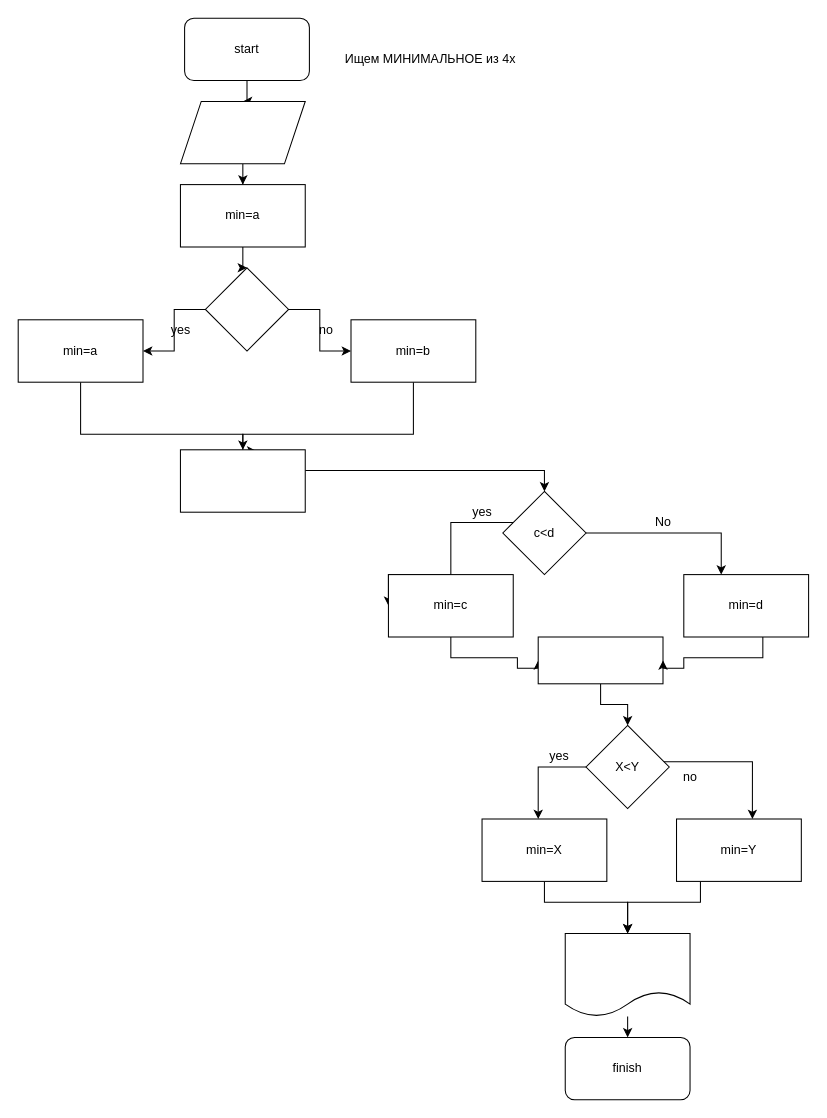
The diagram is 827 pixels wide and 1118 high, and some of its shapes have lost their labels. The centre of each missing label's shape, as x and y in pixels:
a,b,c,d: the point at 242,132
min<b: the point at 246,309
output min: the point at 627,974
X=min: the point at 242,480
Y=min: the point at 600,660
